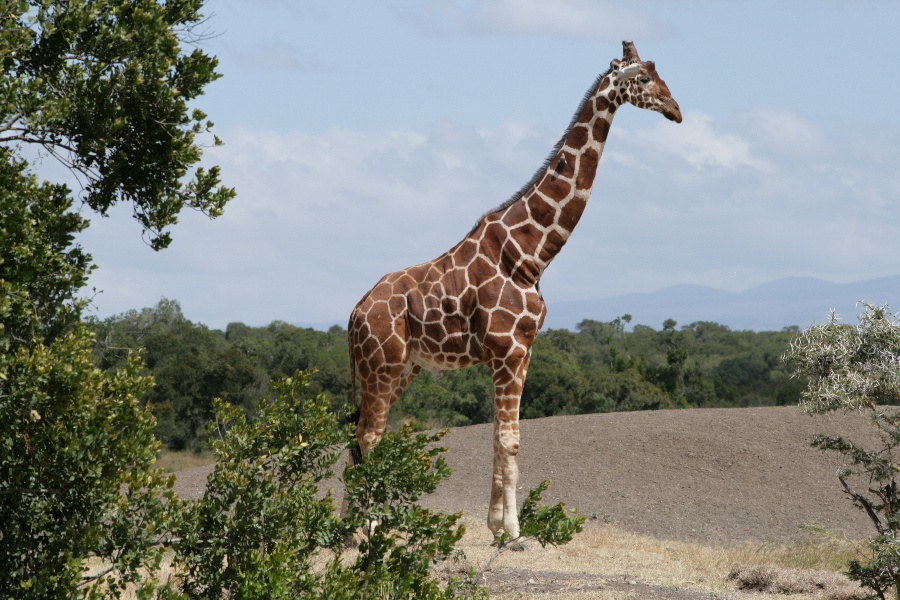giraffe: (318, 27, 699, 537)
